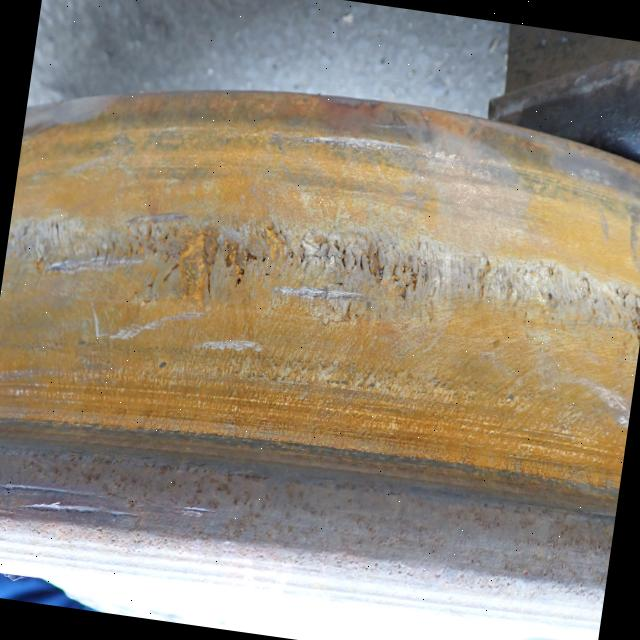Contact_Fatigue_Cracks: (473, 259, 591, 317), (276, 226, 384, 281), (95, 214, 174, 274), (200, 229, 261, 306), (390, 242, 429, 298), (13, 217, 66, 256), (613, 289, 640, 339)
